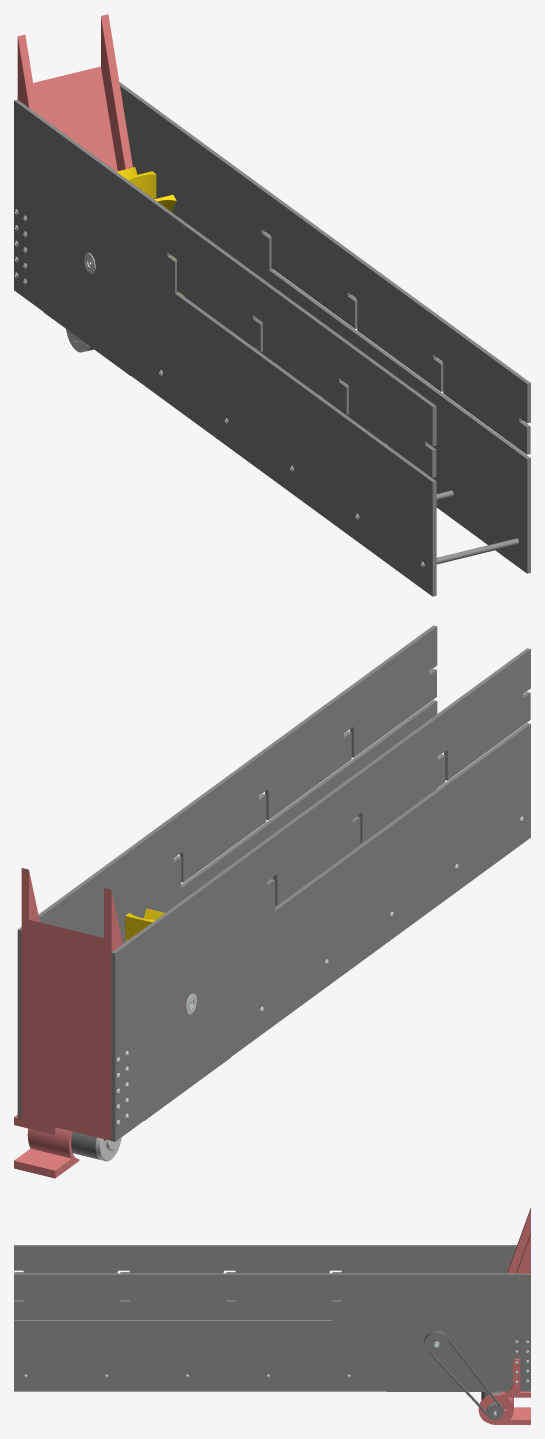
File: hydro.glb
The picture shows the model from 3 angles, top to bottom: view 1: azimuth 30°, elevation 25°; view 2: azimuth 150°, elevation 25°; view 3: azimuth 270°, elevation 25°; orthographic projection. The views are drawn at different scales.
Visible parts, largest first — view 1: Part 6, Rack Plate, Part 4; view 2: Part 6, Rack Plate, Ramp, Part 4, Part 8, CIM Motor; view 3: Rack Plate, Part 6, Part 8, Part 4, 120T 5M 9mm Wide Belt, 36T HTD Pulley 9.53mm Wide.
Part boxes in pixels (x1,y1,x2,y2): Part 6: (14, 99, 436, 596); Rack Plate: (119, 82, 530, 573); Part 4: (17, 14, 131, 159); Part 6: (111, 648, 530, 1141); Rack Plate: (17, 625, 437, 1118); Ramp: (21, 993, 111, 1140); Part 4: (21, 868, 122, 1014); Part 8: (14, 1115, 79, 1178); CIM Motor: (71, 1131, 121, 1161); Rack Plate: (14, 1273, 530, 1391); Part 6: (14, 1245, 516, 1319); Part 8: (478, 1358, 530, 1424); Part 4: (507, 1208, 530, 1273); 120T 5M 9mm Wide Belt: (424, 1331, 503, 1419); 36T HTD Pulley 9.53mm Wide: (424, 1330, 448, 1355).
Size of the model in its own units: 0.2033 by 0.4895 by 1.22.
